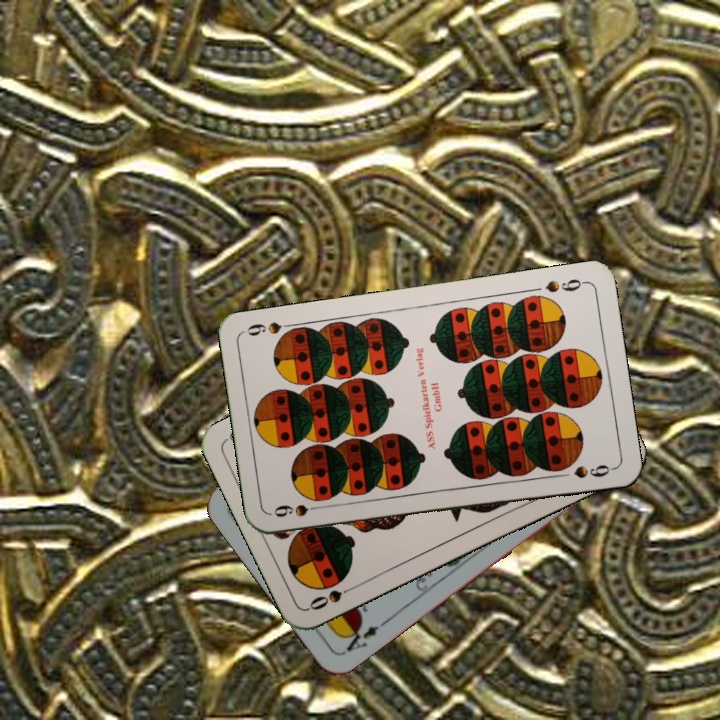EA: (339, 616, 391, 656)
S9: (269, 500, 328, 520), (541, 275, 589, 296)
SO: (305, 580, 361, 613)
